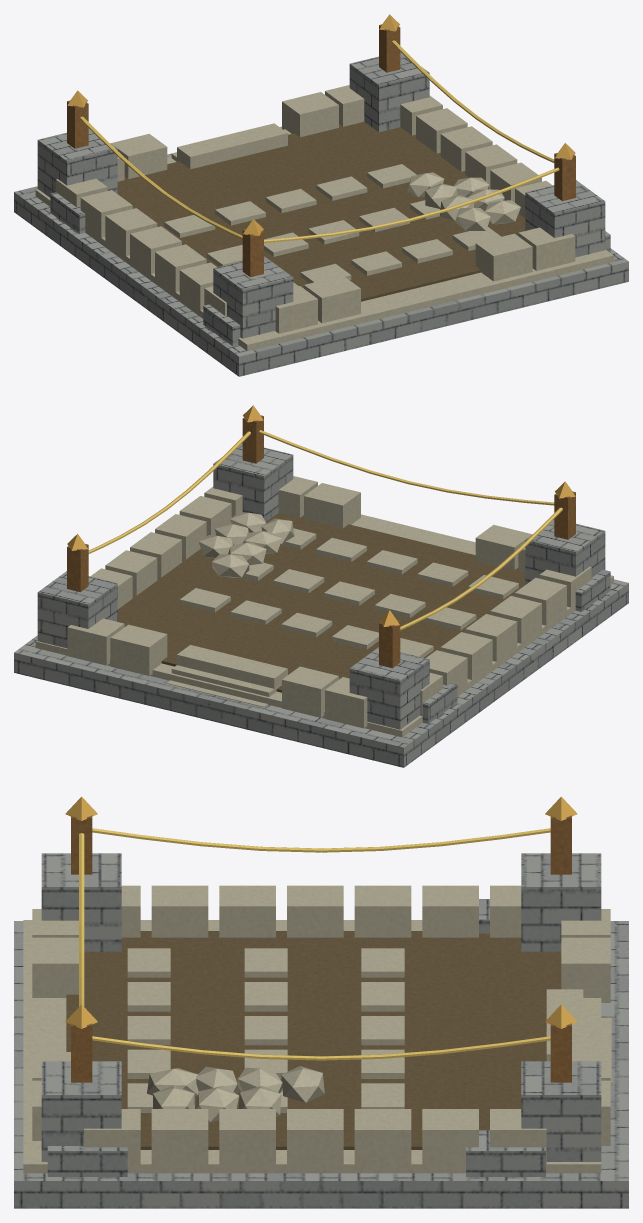
File: Site.fbx
3 renders of one model, top to bottom at view 1: azimuth 30°, elevation 25°; view 2: azimuth 150°, elevation 25°; view 3: azimuth 270°, elevation 25°, orthographic. The views are drawn at different scales.
Parts seen in each view (by area): view 1: Site; view 2: Site; view 3: Site.
Part boxes in pixels (bbox=[...]): Site: bbox=[14, 14, 628, 376]; Site: bbox=[14, 405, 628, 767]; Site: bbox=[14, 796, 628, 1208].
Bounding box in the file's own units: 1 × 0.32 × 1.
Materials: 1 (1 with a texture image).
